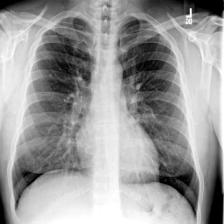normal: (9, 12, 204, 224)
